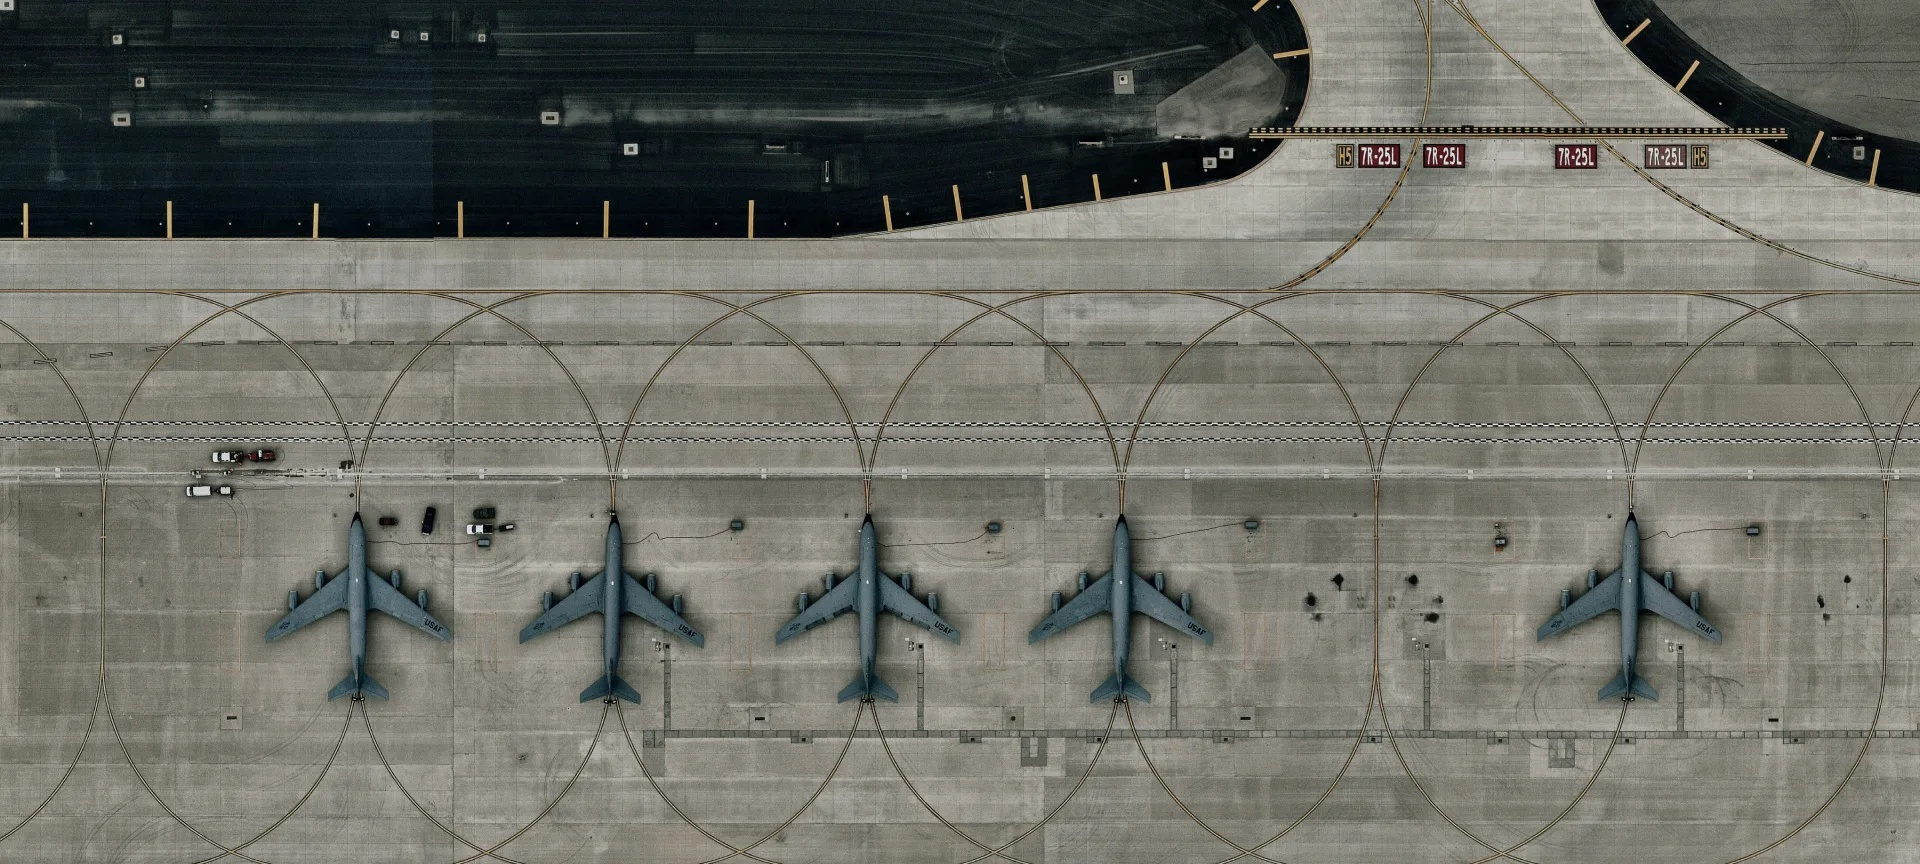airplane: (265, 510, 451, 705), (519, 513, 705, 706), (1028, 512, 1214, 705), (775, 513, 961, 705)
